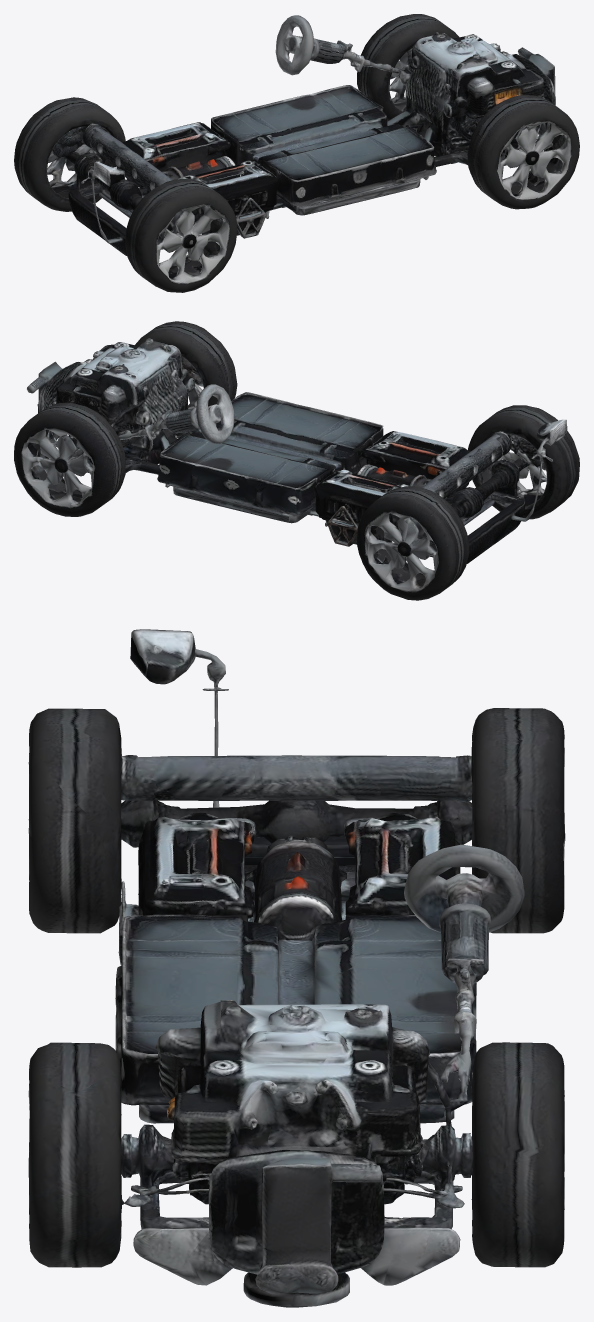
The model's file is sasis-ev-lite.glb.
The picture shows the model from 3 angles, top to bottom: view 1: azimuth 30°, elevation 25°; view 2: azimuth 150°, elevation 25°; view 3: azimuth 270°, elevation 25°; orthographic projection. The views are drawn at different scales.
Size of the model in its own units: 1.9 by 0.5371 by 0.9044.
Materials: 1 (1 with a texture image).
